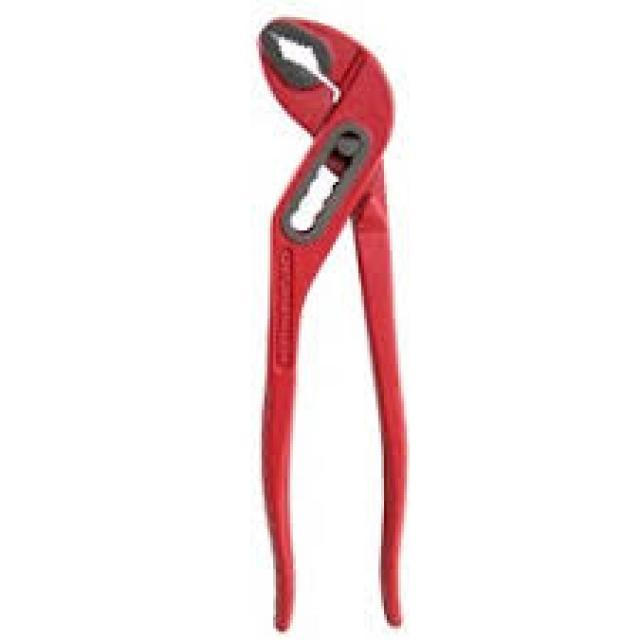pliers: (254, 7, 414, 638)
